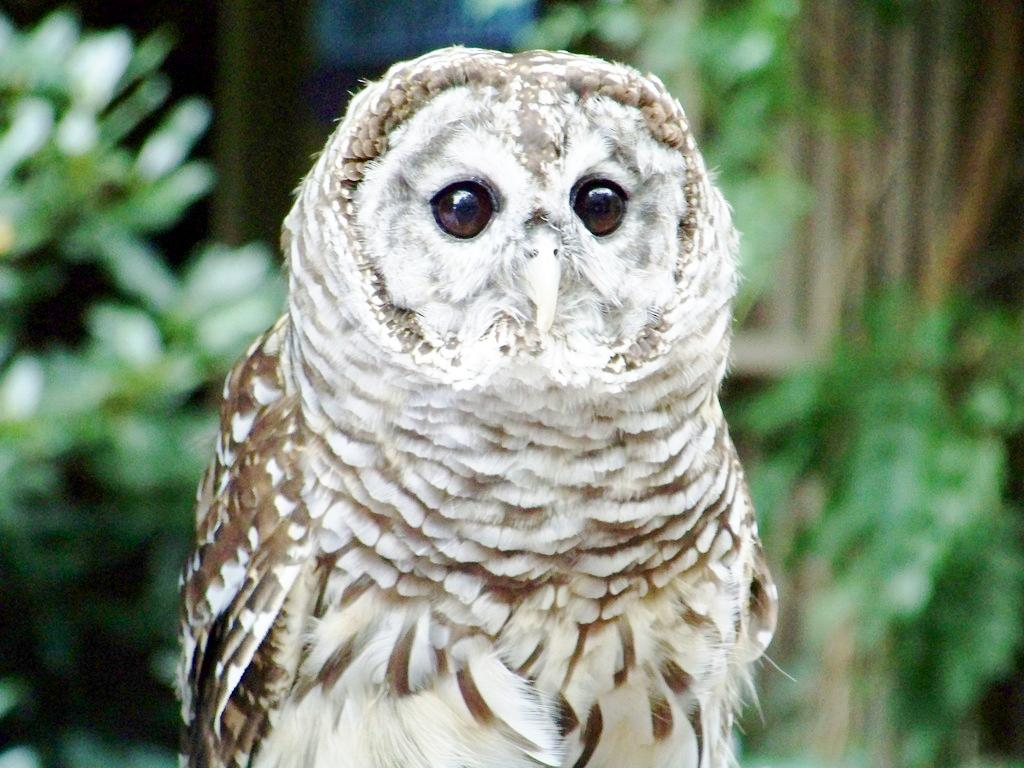Owl: (172, 40, 800, 768)
